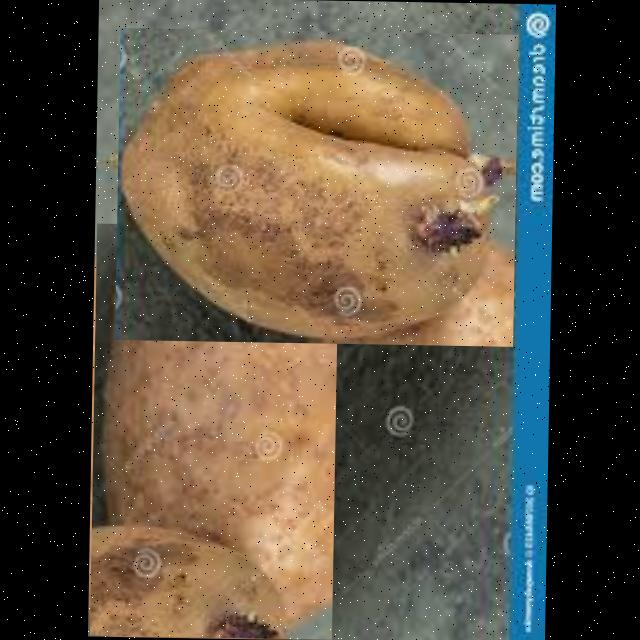Damaged potato: (89, 223, 338, 639)
Sprouted potato: (114, 28, 517, 346)
